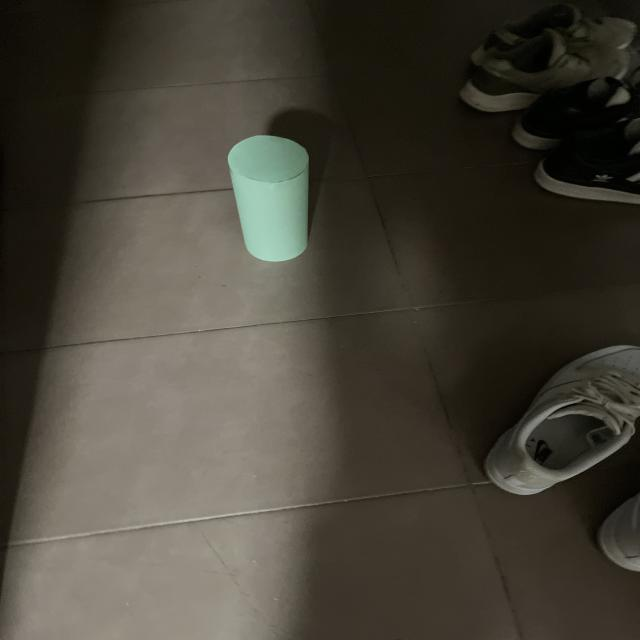meta: (228, 135, 309, 262)
